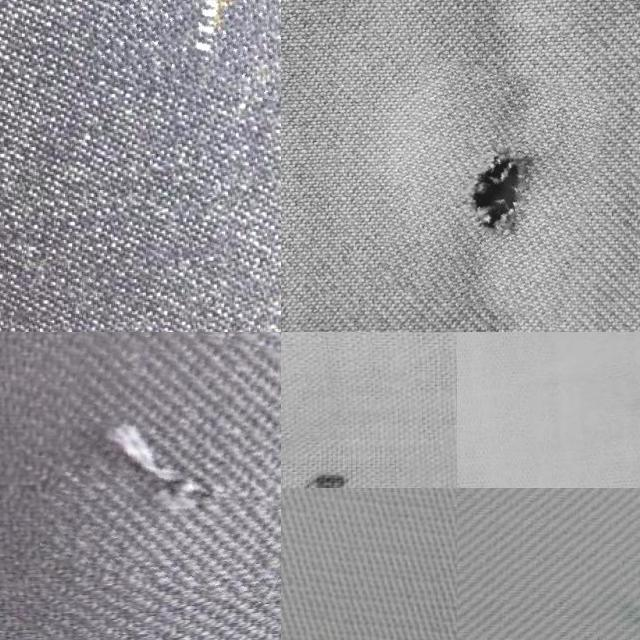Hole: (281, 412, 428, 488)
Thread_other: (48, 332, 281, 593), (101, 0, 281, 92)
seam: (387, 64, 600, 316)
